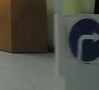right: (63, 16, 99, 63)
